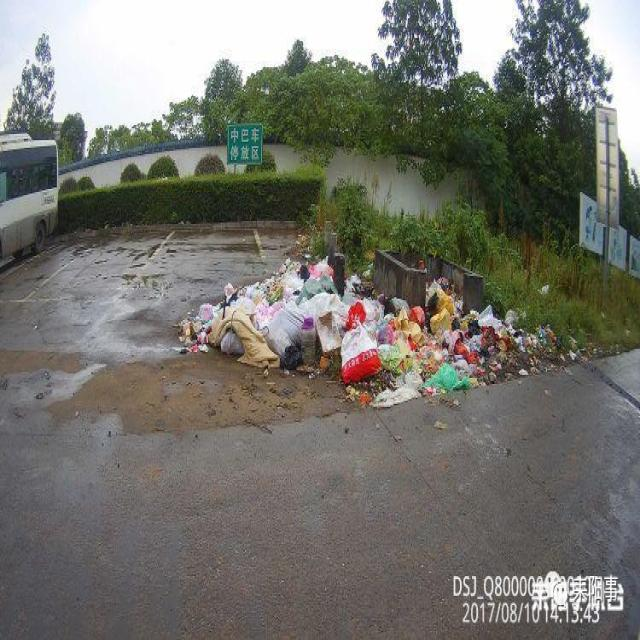garbage: (177, 253, 566, 405)
